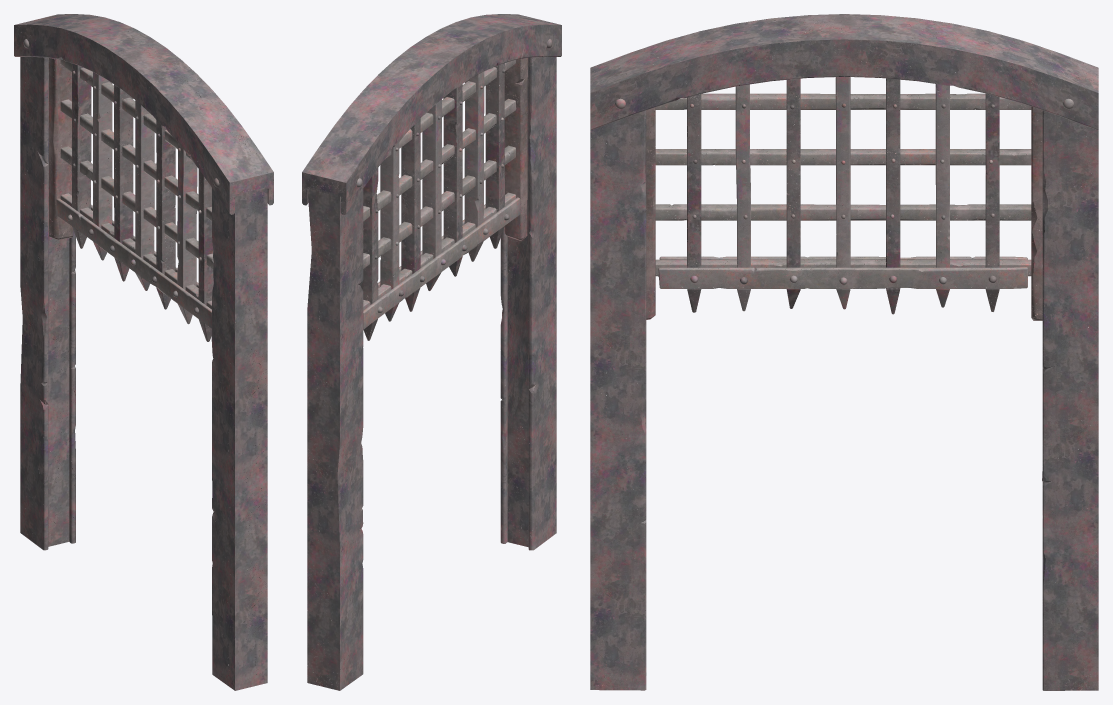
3 views of the same model, side by side, from view 1: azimuth 30°, elevation 25°; view 2: azimuth 150°, elevation 25°; view 3: azimuth 270°, elevation 25° (orthographic). The views are drawn at different scales.
Visible parts, largest first — view 1: SM_Castle_Gate_01v1_LOD0; view 2: SM_Castle_Gate_01v1_LOD0; view 3: SM_Castle_Gate_01v1_LOD0.
Part boxes in pixels (x1,y1,x2,y2): SM_Castle_Gate_01v1_LOD0: [14, 14, 273, 690]; SM_Castle_Gate_01v1_LOD0: [302, 14, 561, 690]; SM_Castle_Gate_01v1_LOD0: [590, 14, 1098, 690].
Size of the model in its own units: 0.972 by 10.45 by 7.35.
Materials: 1 (1 with a texture image).
